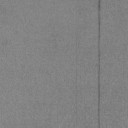surface scratch: (98, 0, 101, 128)
